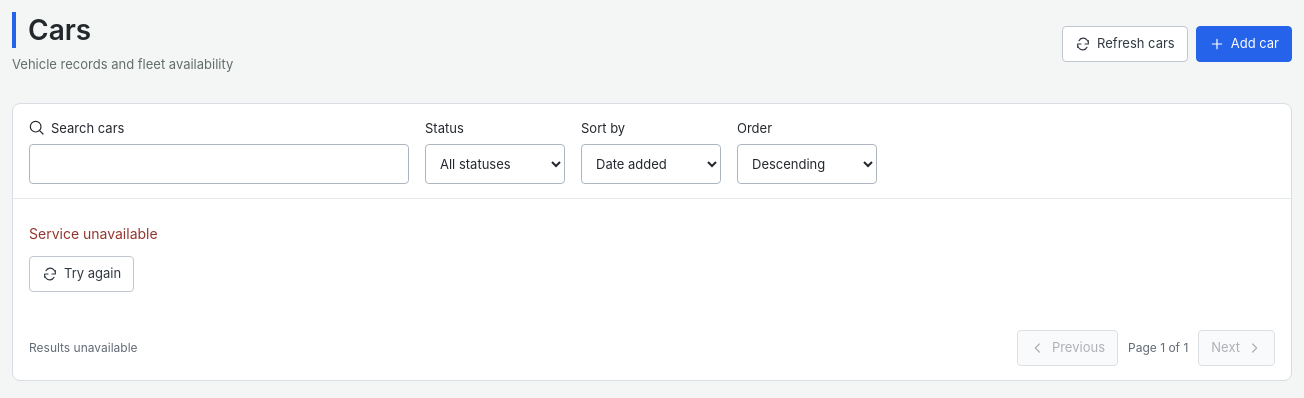
Scenario: Cars UI › shows list errors with retry and recovers to an empty list
Expected: the text "Service unavailable" is shown, [29,225,158,242]
Click the button "Try again": (82, 274) [29,256,134,292]
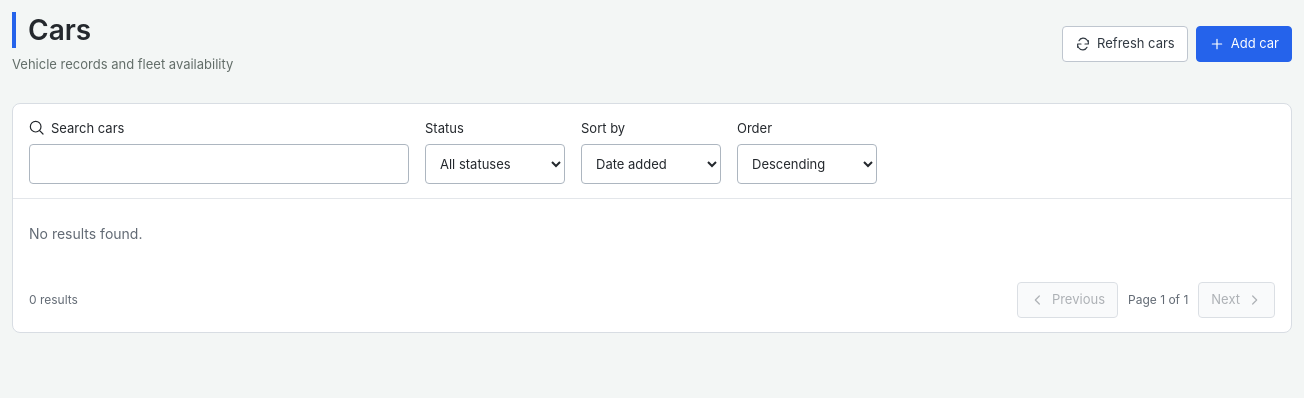
Now the text "Service unavailable" is gone
Now the text "0 results" is shown, box [29,291,78,309]
